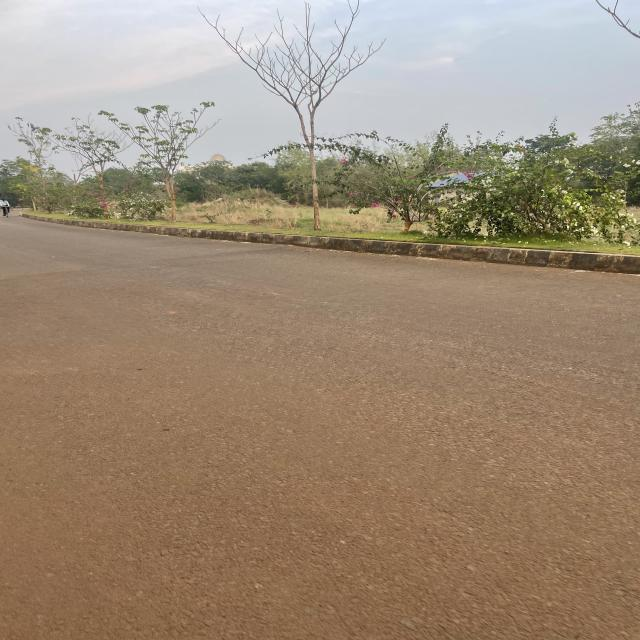D43: (307, 298, 614, 530)
